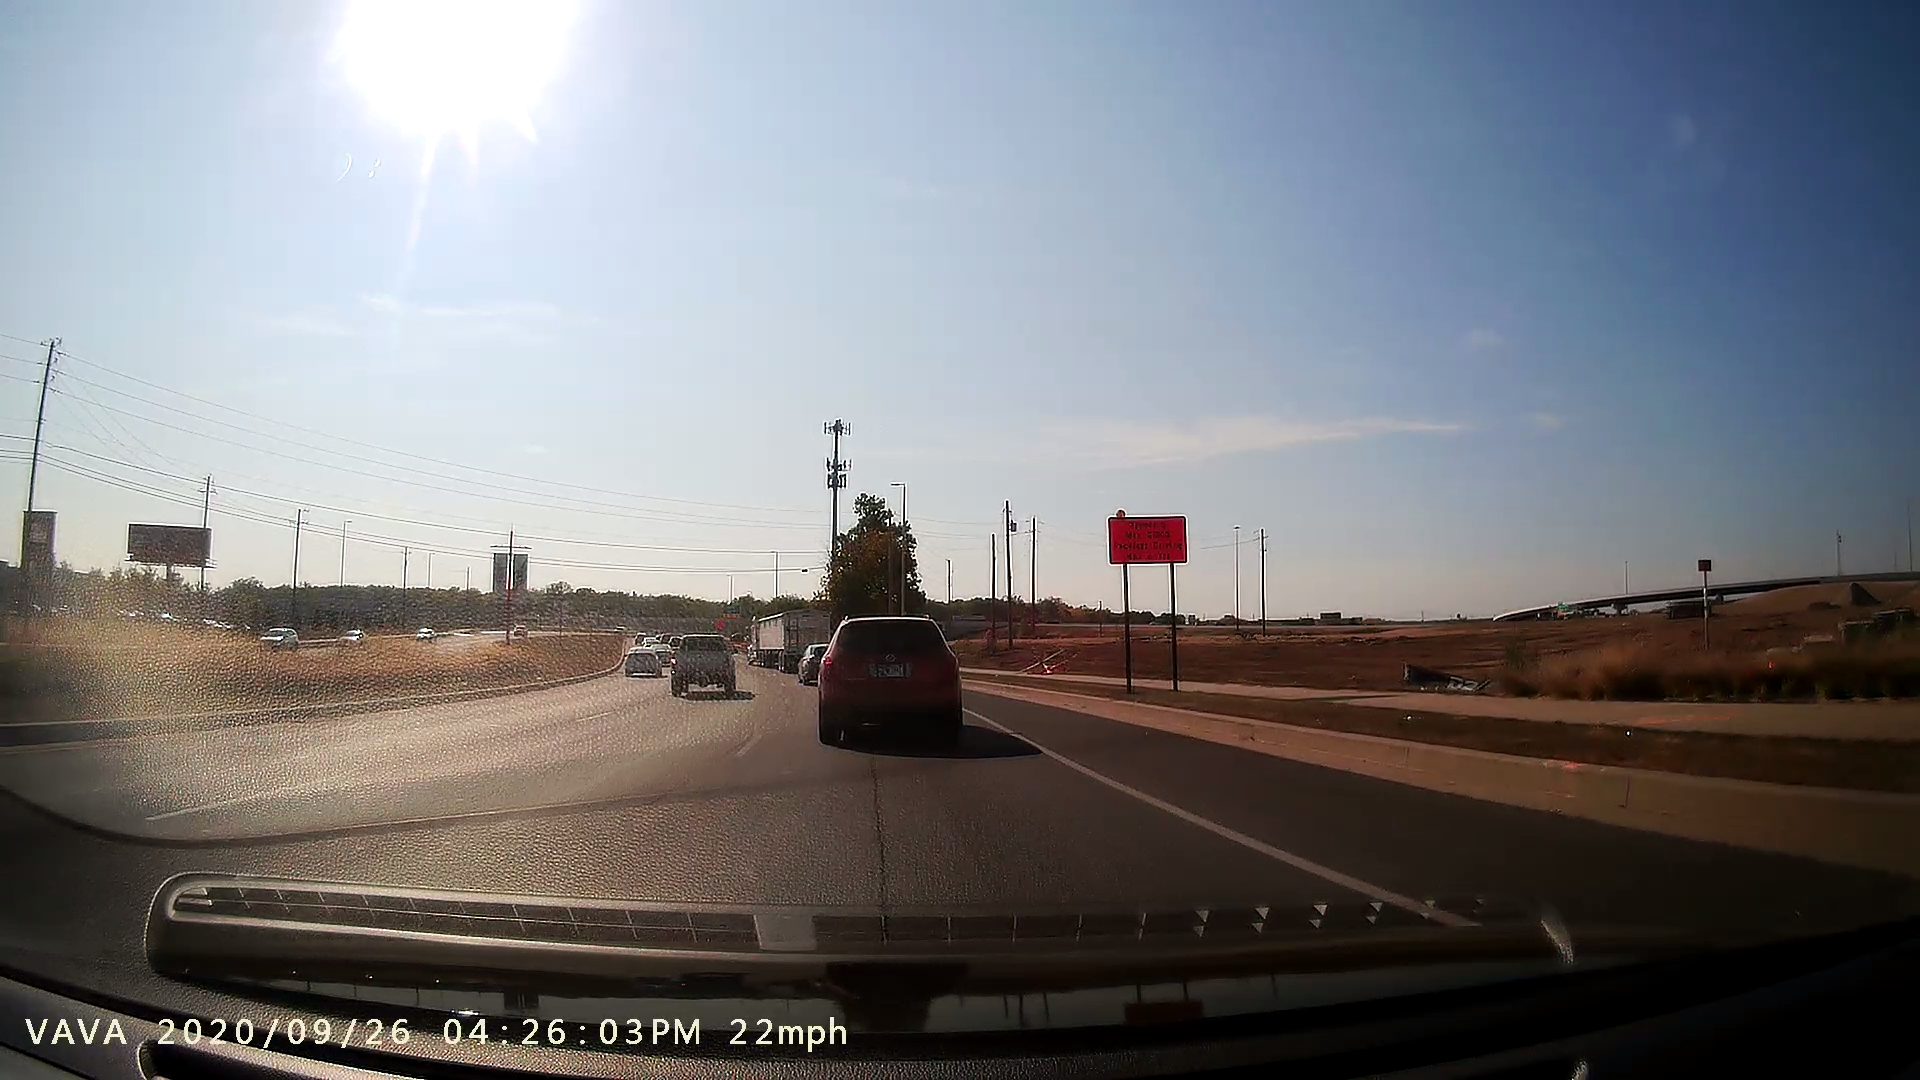temperary_sign: (1104, 500, 1195, 696)
